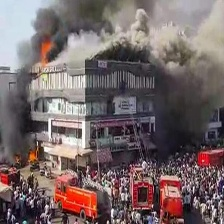fire: (40, 36, 50, 63), (26, 150, 39, 161)
smoke: (54, 1, 224, 147), (1, 15, 38, 148)
